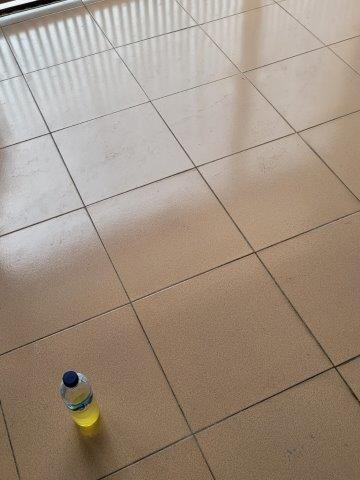botolplastik: (60, 372, 103, 429)
